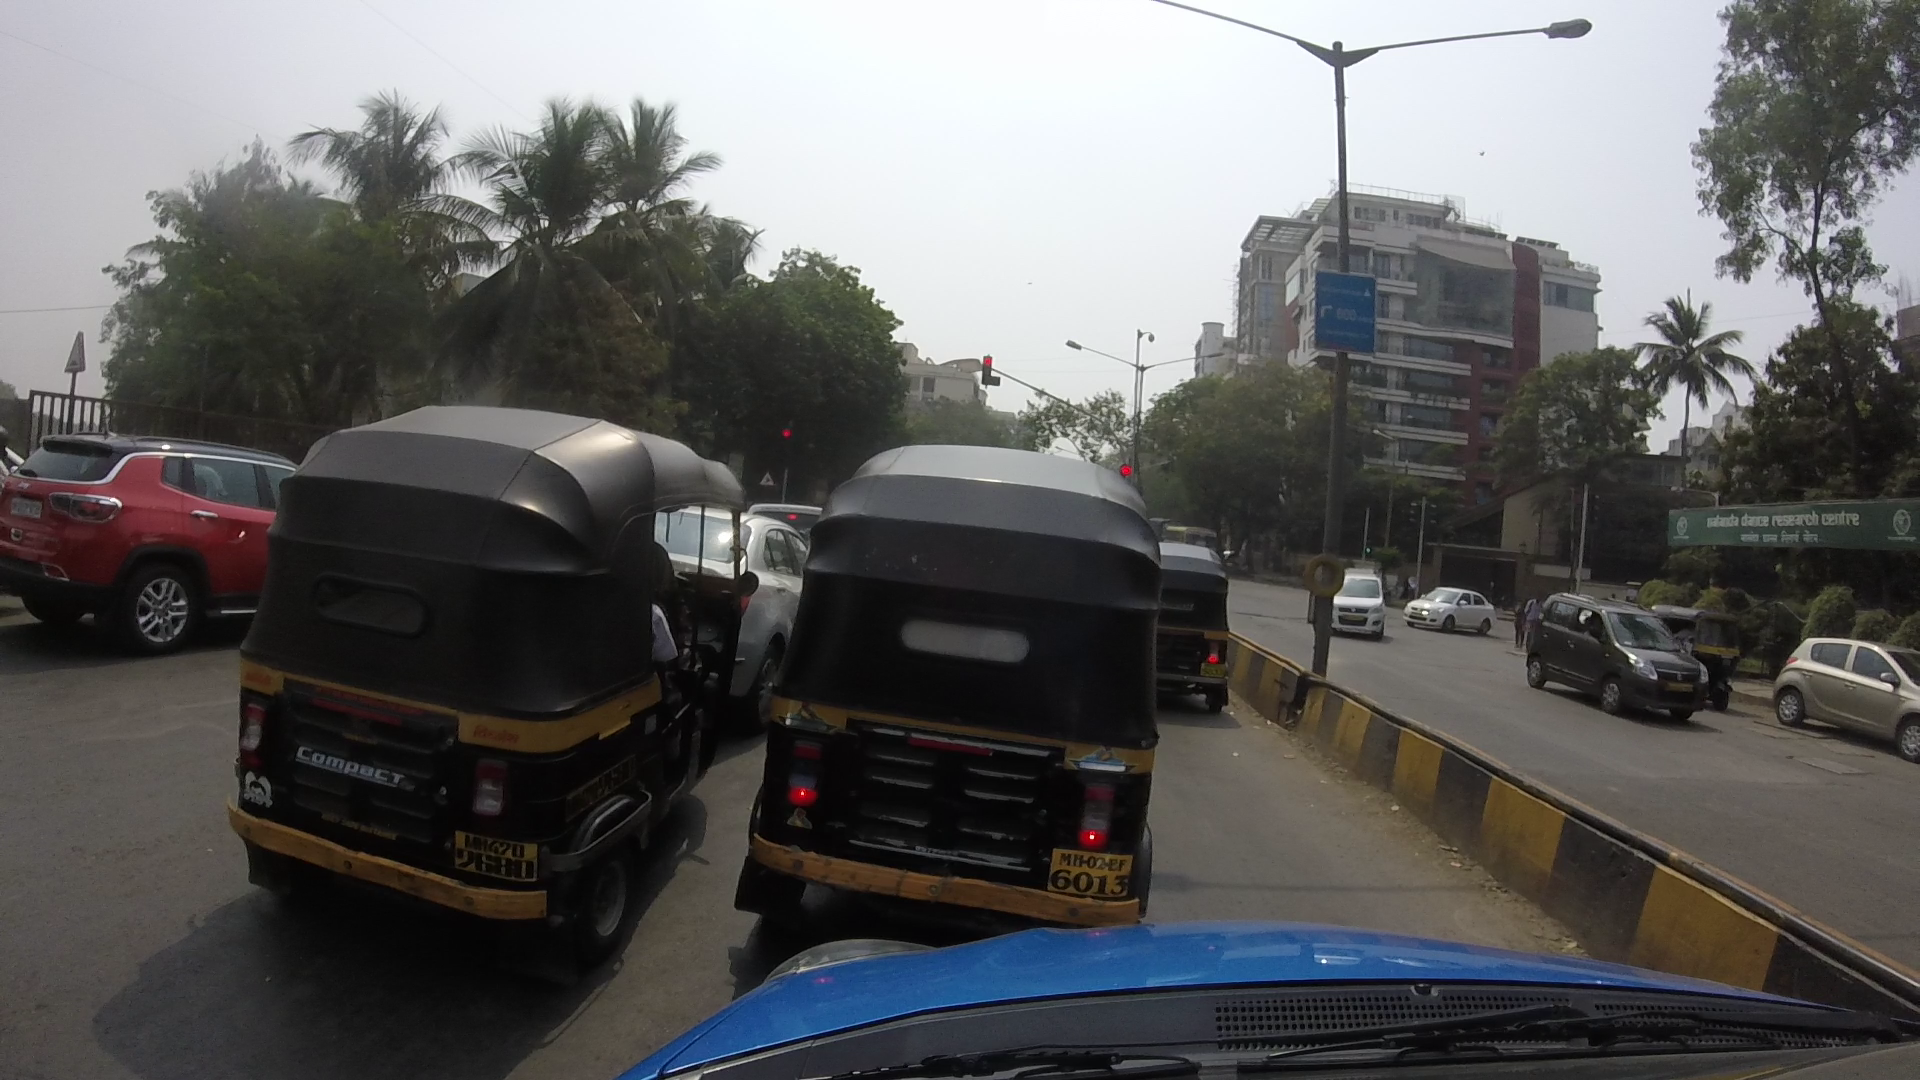car: (7, 436, 294, 644), (686, 508, 810, 720), (1526, 595, 1709, 723), (1770, 637, 1920, 749), (1393, 587, 1493, 640), (1328, 568, 1381, 640)
rickshaw: (240, 410, 725, 960), (790, 458, 1158, 927), (1145, 545, 1236, 704), (1650, 599, 1739, 711)
